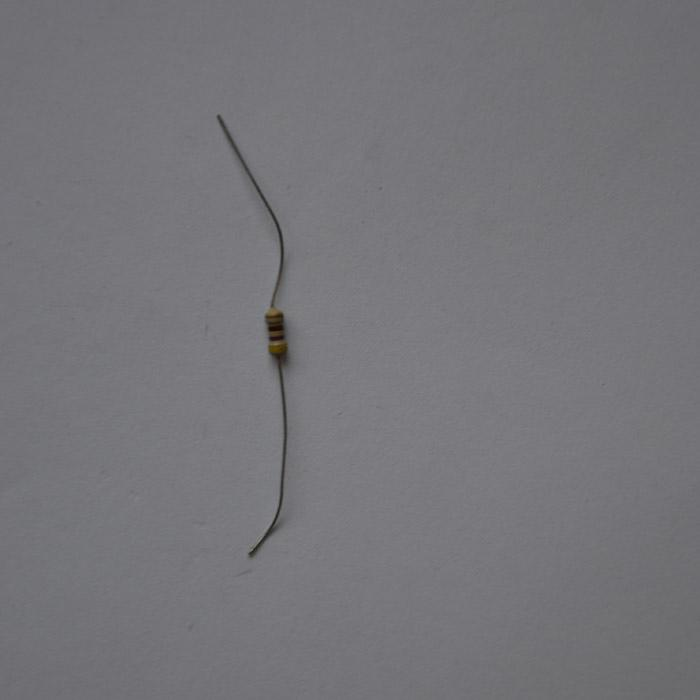resistor: (265, 306, 287, 355)
